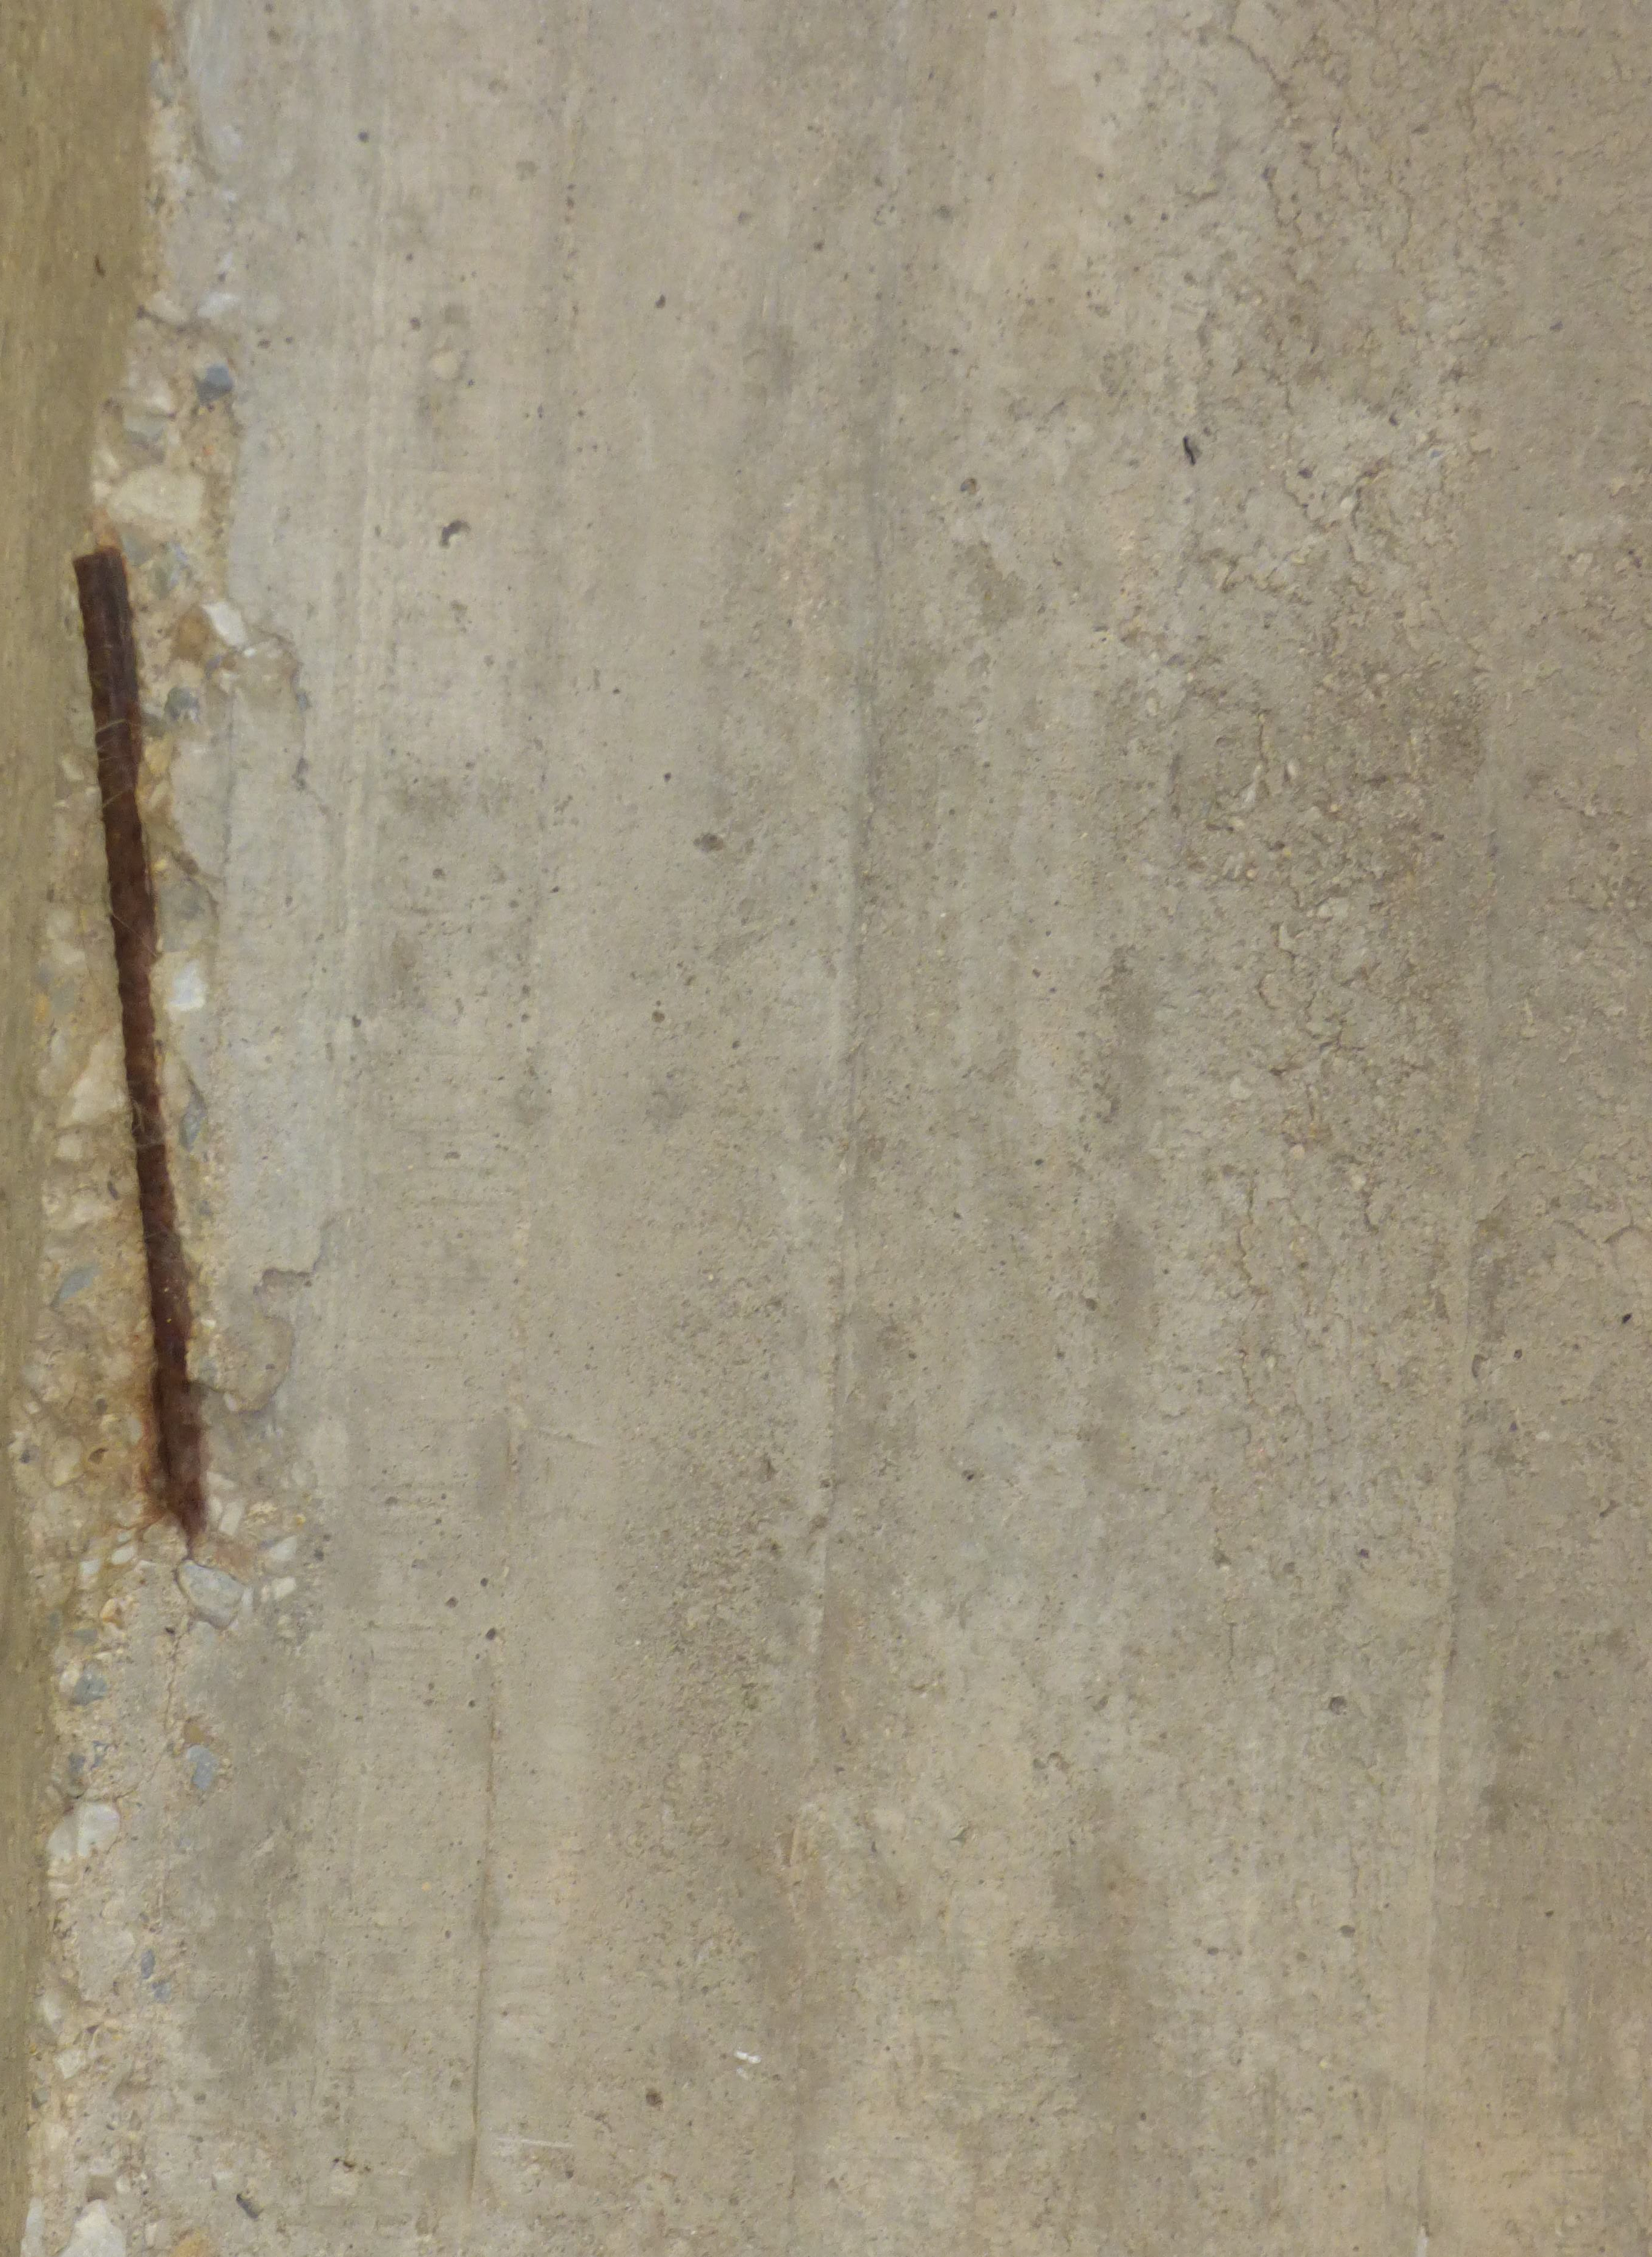Exposed reinforcement: (72, 552, 208, 1539)
Spalling: (7, 307, 321, 1682)
